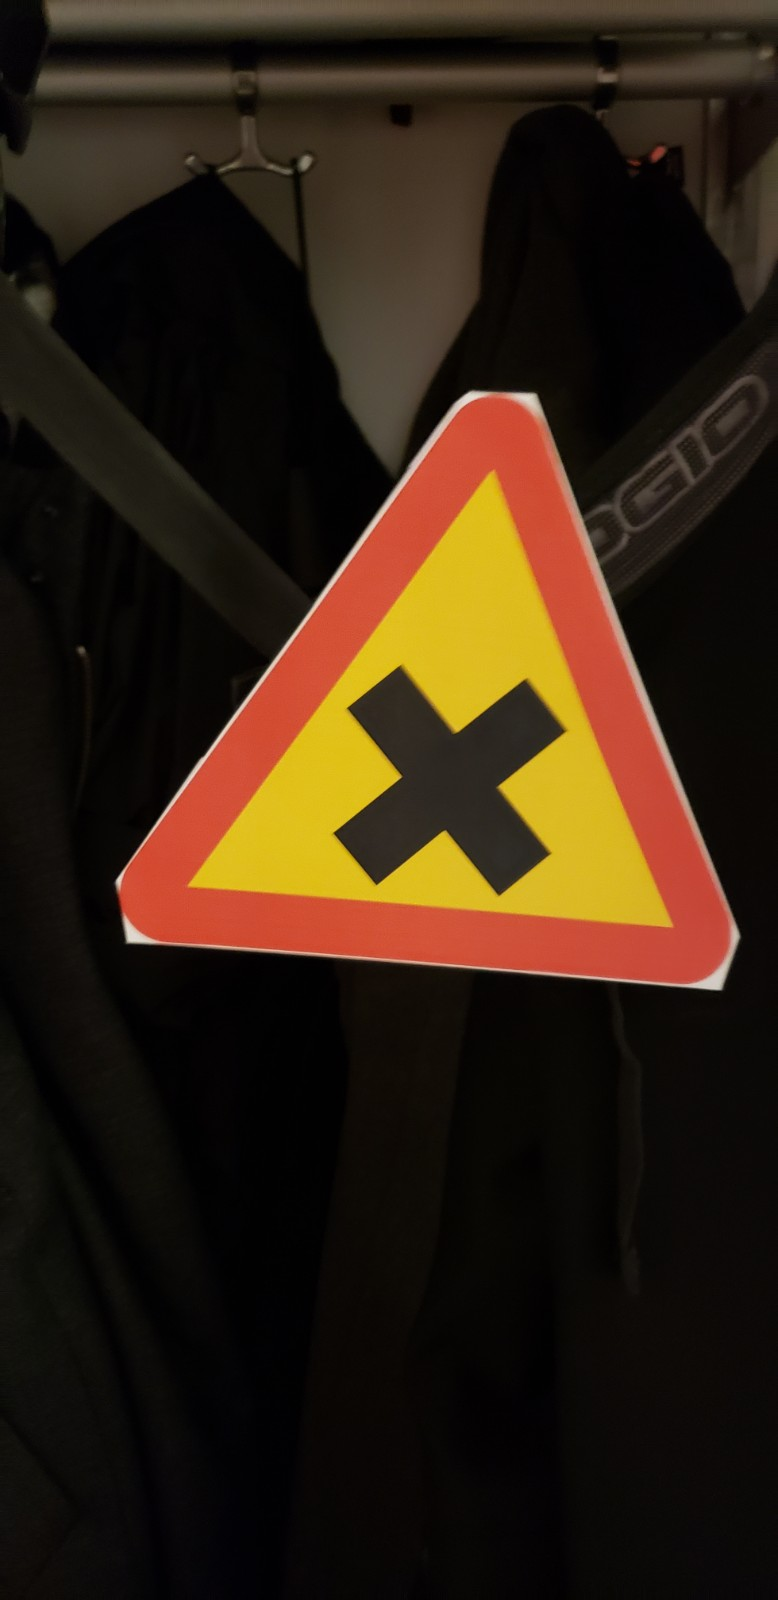junction: (50, 292, 765, 1058)
